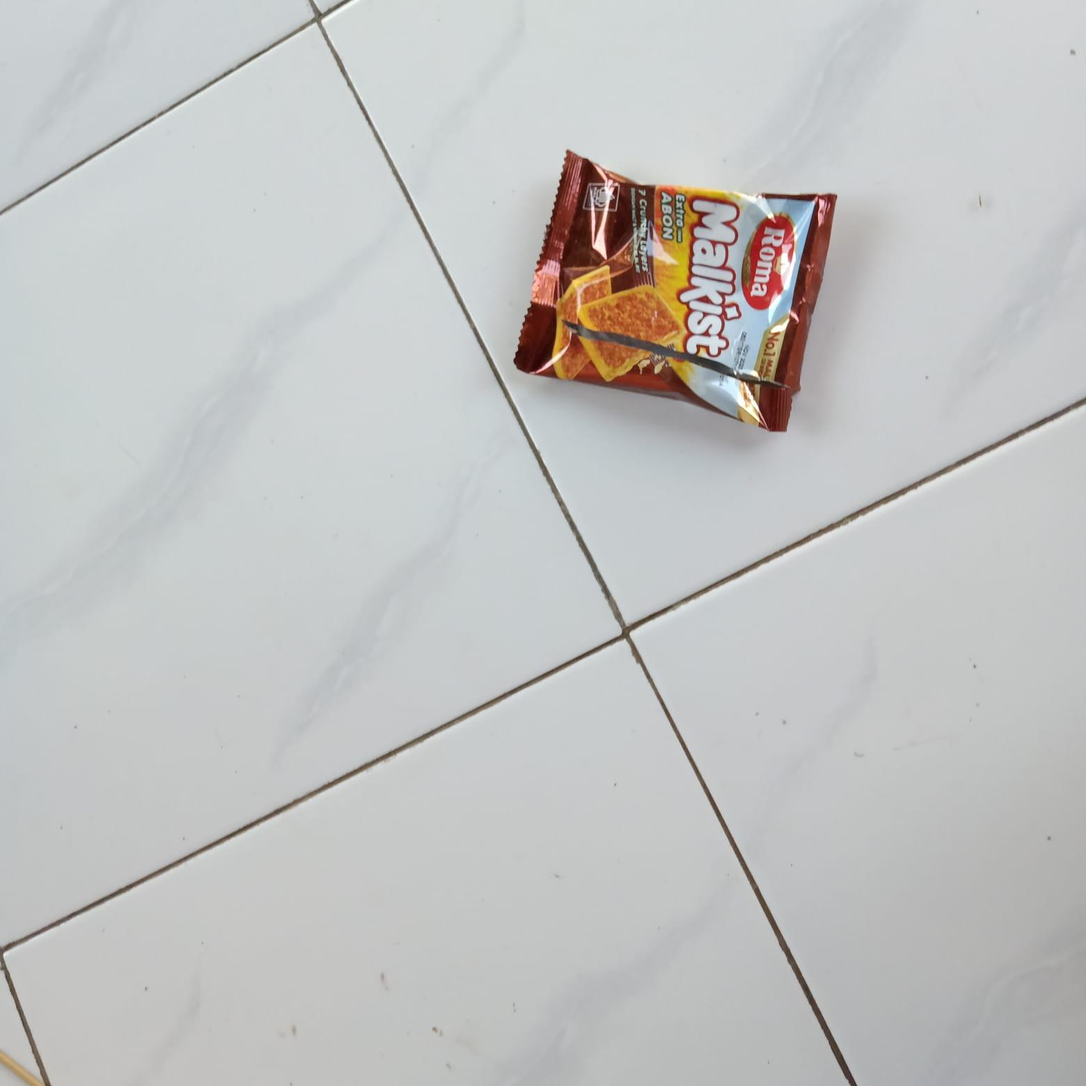Plastik: (513, 149, 840, 435)
